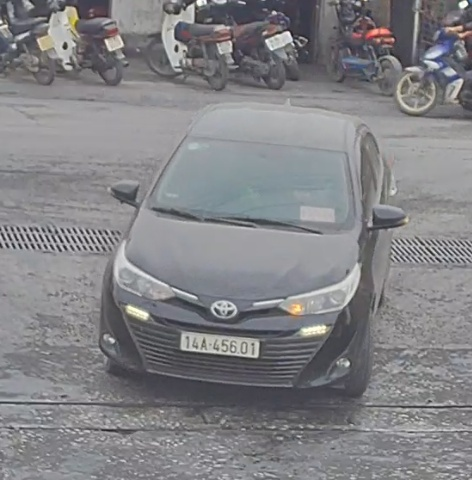vehicle plate: (176, 324, 261, 360)
